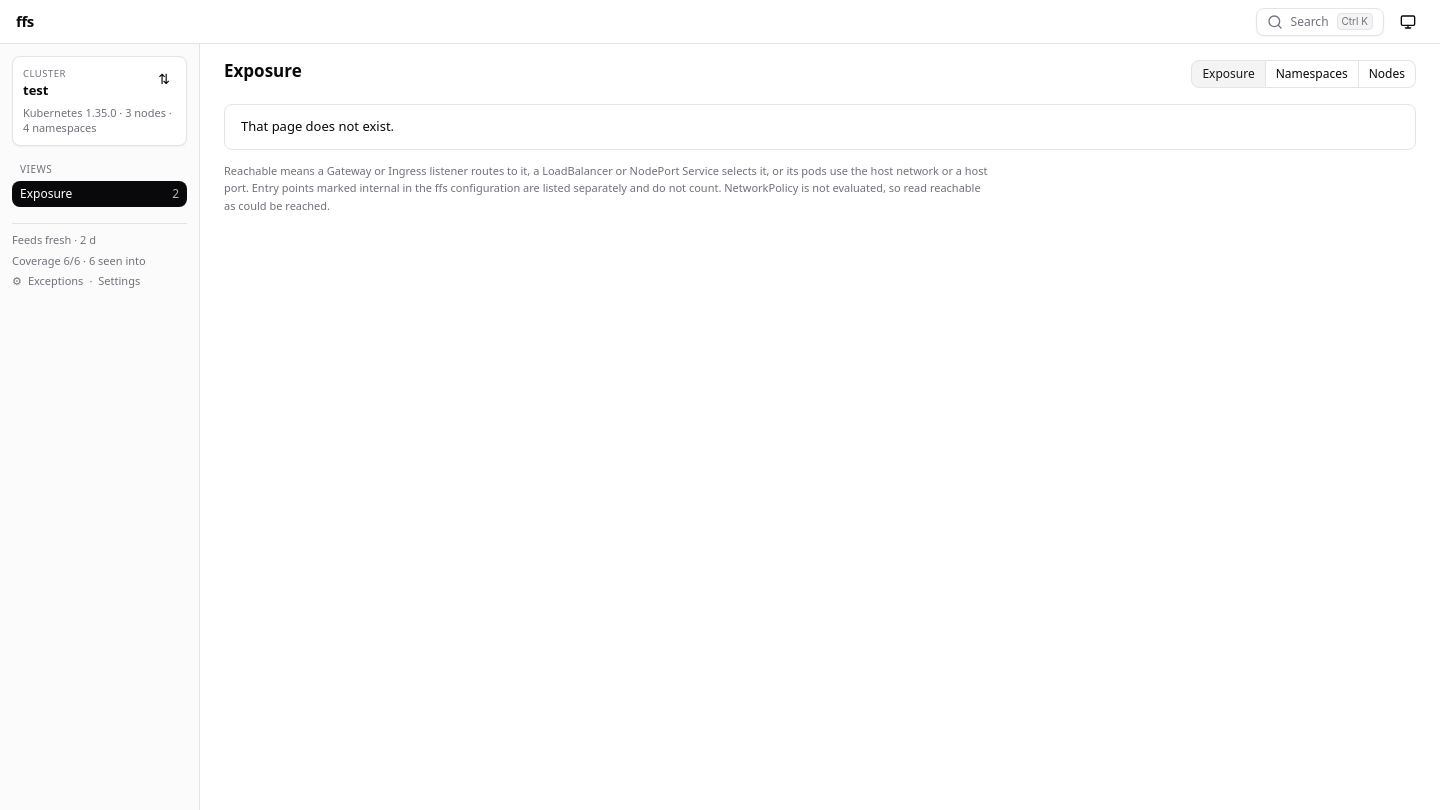
Test case: says to refine the search when more objects matched than are listed
Type keys "{Control>}k{/Control}"
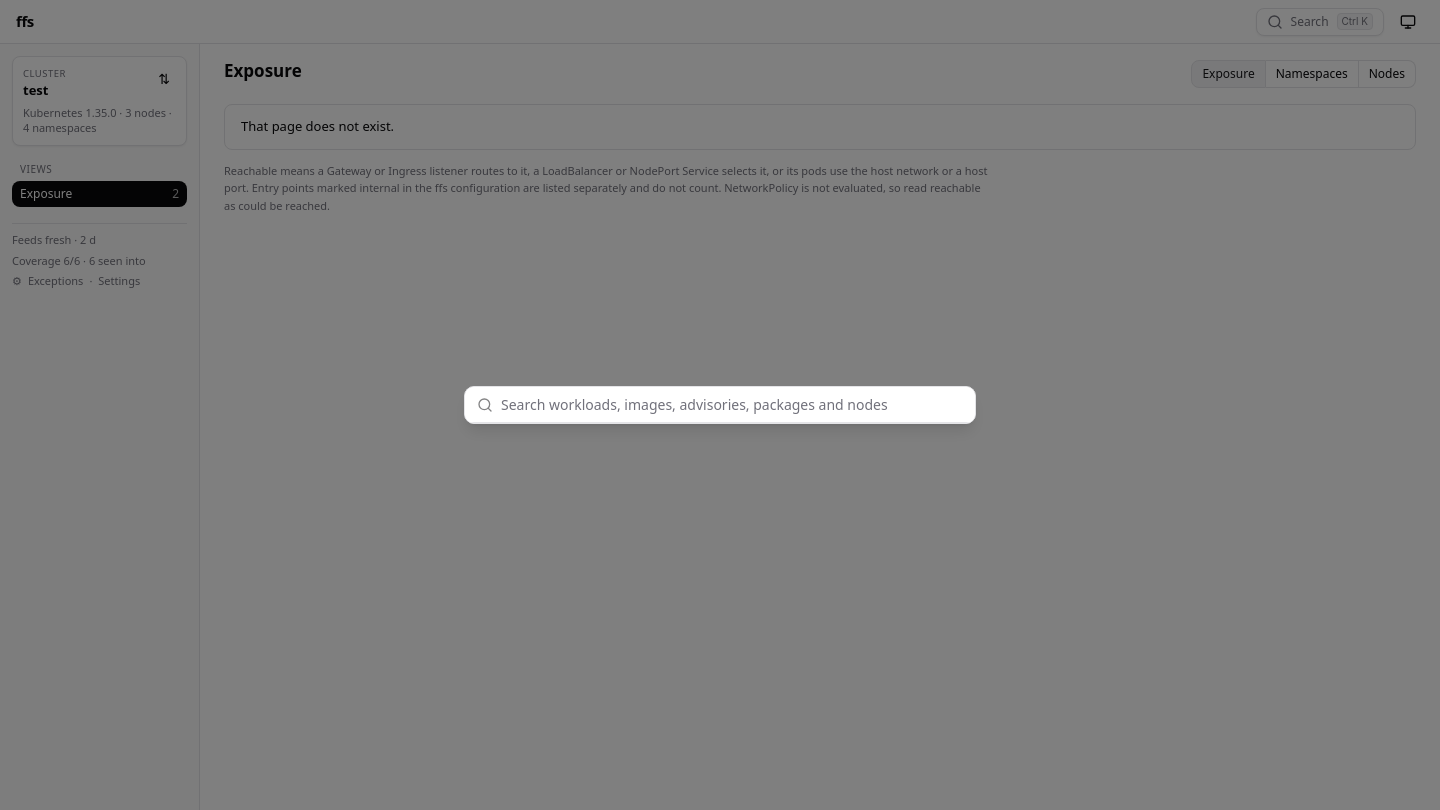
Type "kube" into the dropdown. click: x=732, y=404
box: [501,384,963,424]
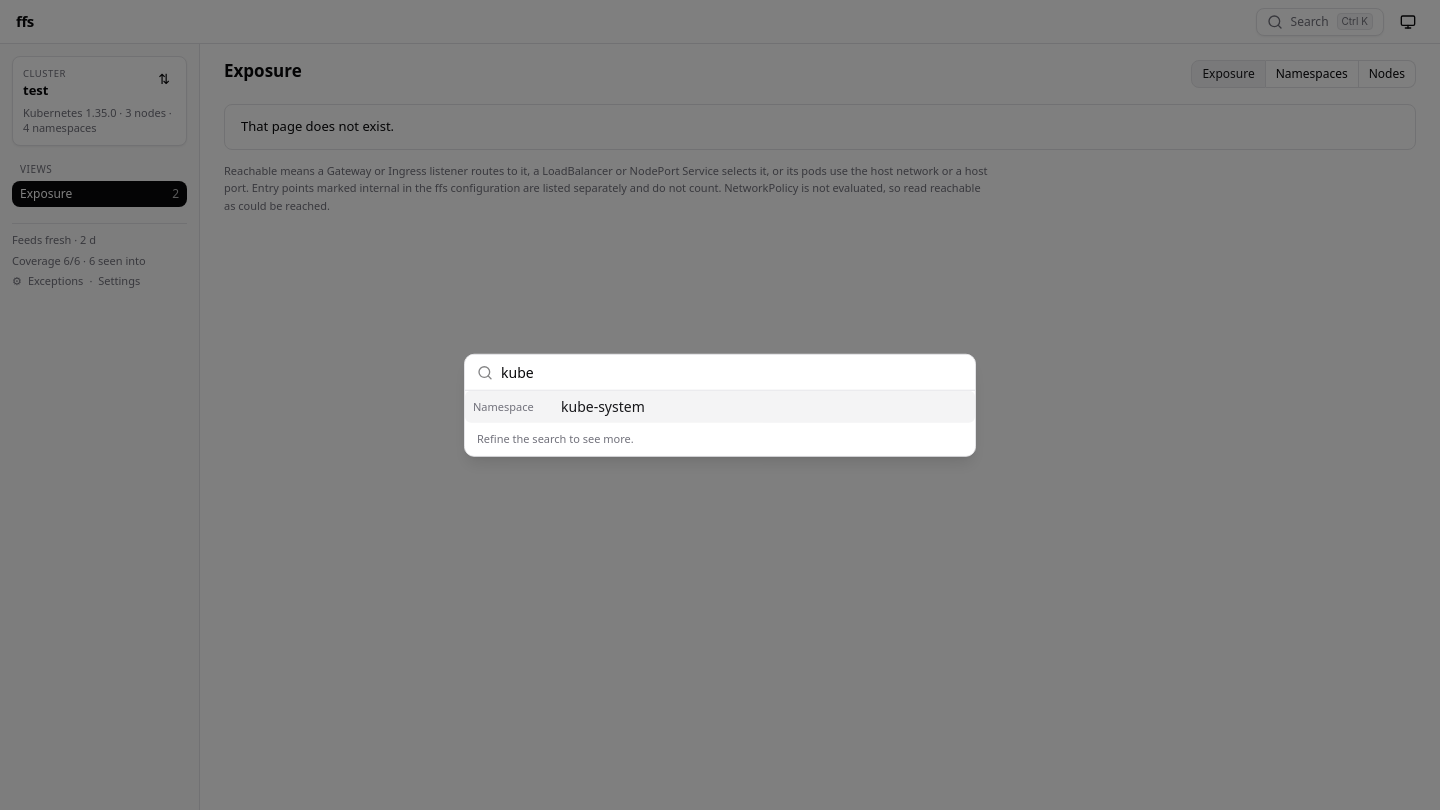
Expected: the text "Refine the search to see more." is shown, [477,431,634,446]
